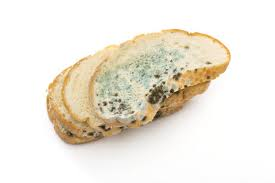mold_bread: (94, 43, 189, 123), (78, 123, 111, 142), (55, 117, 73, 140), (203, 59, 212, 68), (204, 74, 213, 82), (193, 66, 198, 73)
